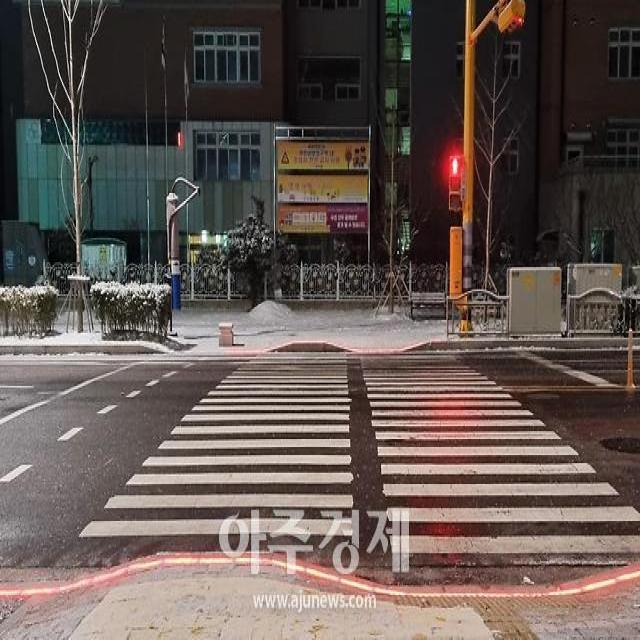red_light: (450, 156, 461, 174)
